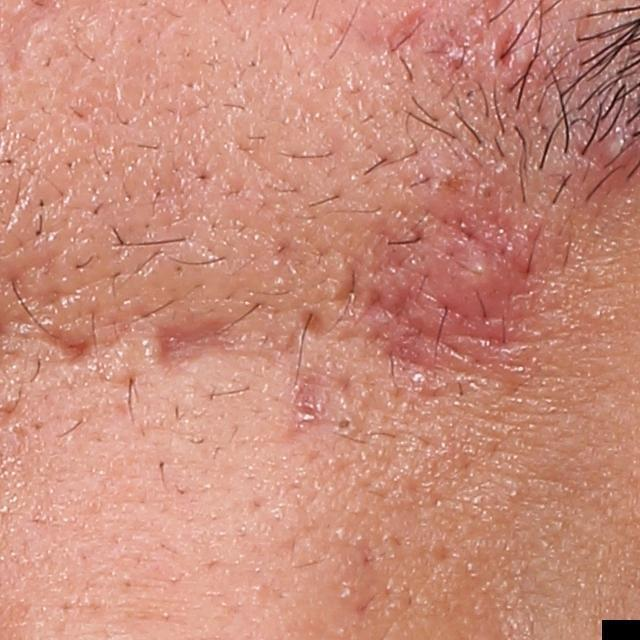atrophic_scar: (157, 307, 232, 375), (333, 252, 365, 318), (50, 330, 91, 367), (301, 306, 327, 340)
comedo: (362, 278, 416, 328), (485, 27, 525, 81), (329, 410, 360, 434)
pustule: (443, 233, 500, 298)
